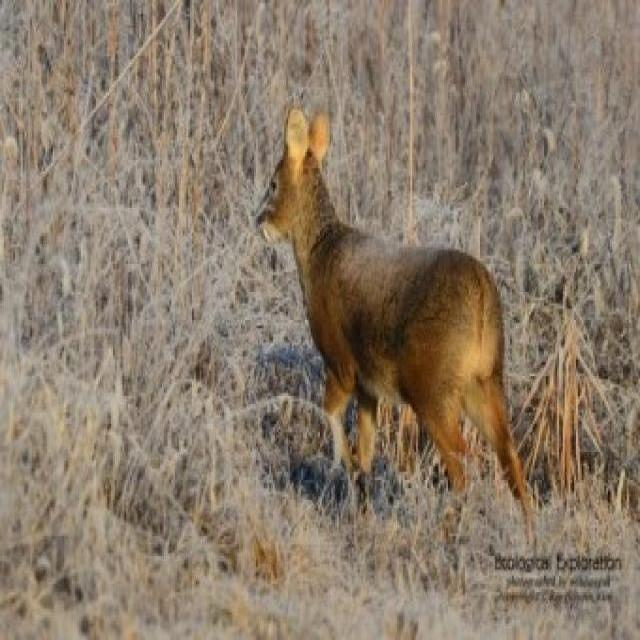deer: (248, 101, 560, 547)
